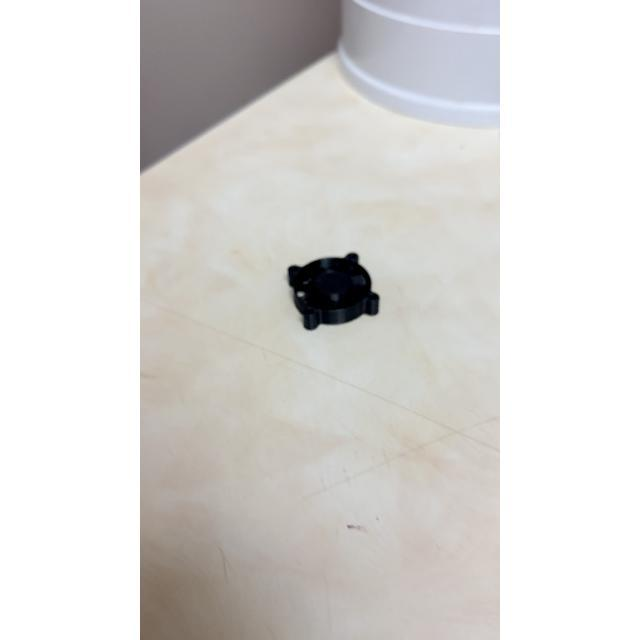Pieza4: (275, 232, 395, 340)
